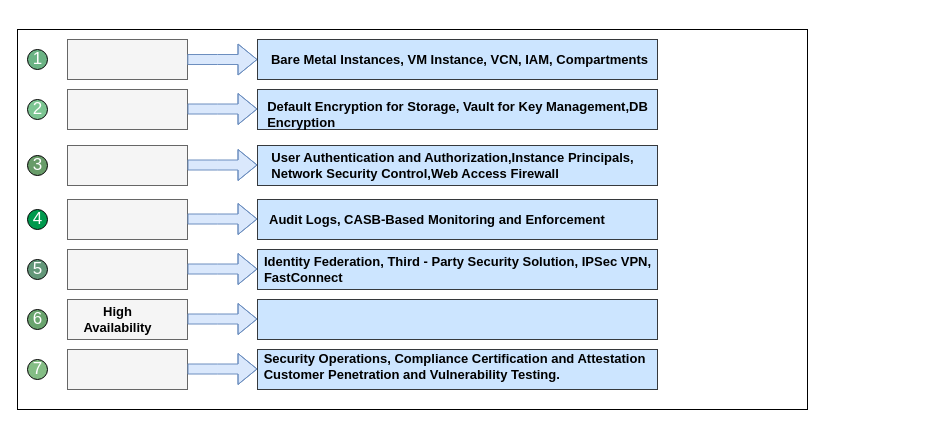
This 940x427 diagram has some shape labels left out. The box of each missing label's shape, as (x1, y1, x2, y2) in pixels:
Customer Isolation: (66, 38, 188, 80)
Data Encryption: (66, 88, 188, 130)
Fault - Independent Data Centers, Fault Domains, SLA: (256, 298, 658, 340)
Secure Hybrid Cloud: (66, 248, 188, 290)
Security Controls: (66, 144, 188, 186)
verifiably Secure Infrastructure: (66, 348, 188, 390)
Visibility: (66, 198, 188, 240)
